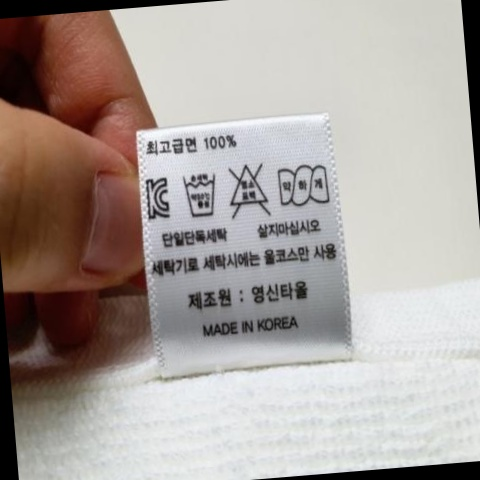hand_wash: (180, 170, 225, 222)
non_chlorine_bleach: (224, 157, 274, 222)
wring: (274, 163, 331, 210)
